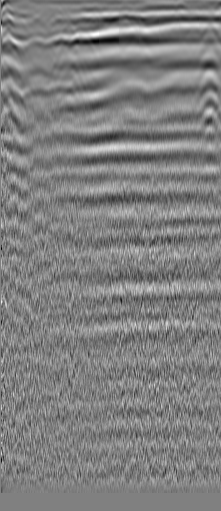가스: (197, 111, 221, 137)
오수: (28, 12, 48, 32)
우수: (158, 22, 178, 42)
